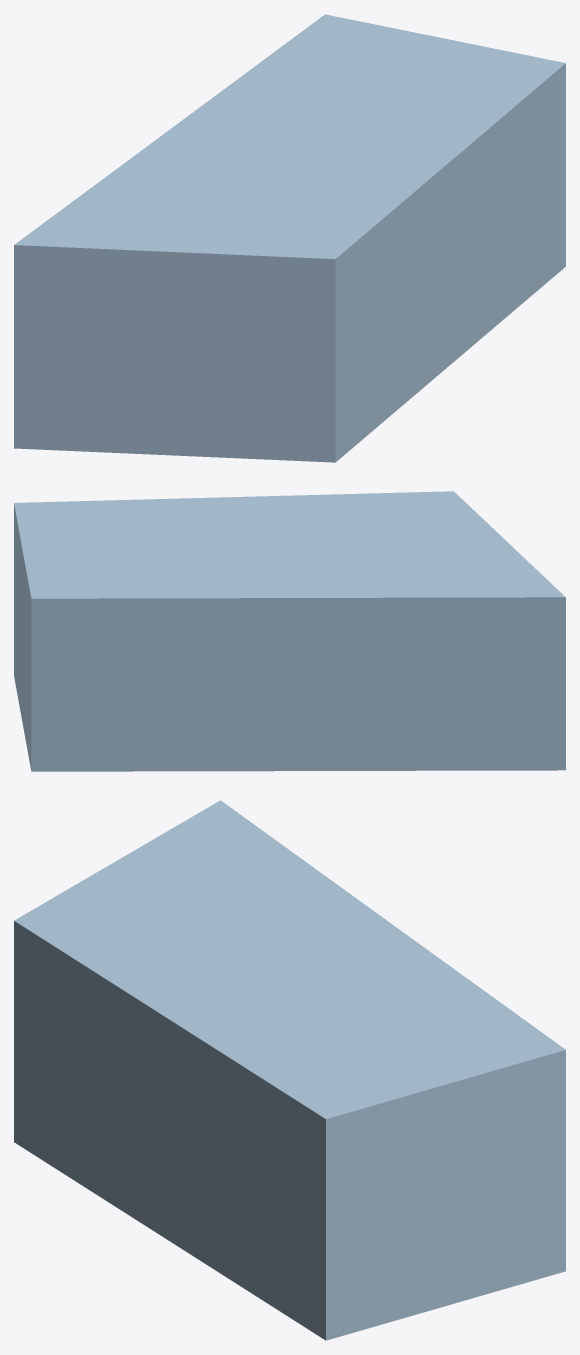
File: njupt_k_dormitory_05.glb
The picture shows the model from 3 angles, top to bottom: view 1: azimuth 30°, elevation 25°; view 2: azimuth 150°, elevation 25°; view 3: azimuth 270°, elevation 25°; orthographic projection. The views are drawn at different scales.
Visible parts, largest first — view 1: njupt_k_dormitory_05; view 2: njupt_k_dormitory_05; view 3: njupt_k_dormitory_05.
Part boxes in pixels (left/top/right/bottom): njupt_k_dormitory_05: left=14, top=14, right=565, bottom=462; njupt_k_dormitory_05: left=14, top=491, right=565, bottom=771; njupt_k_dormitory_05: left=14, top=800, right=565, bottom=1340.
Bounding box in the file's own units: 55.9 × 18.1 × 40.88.
